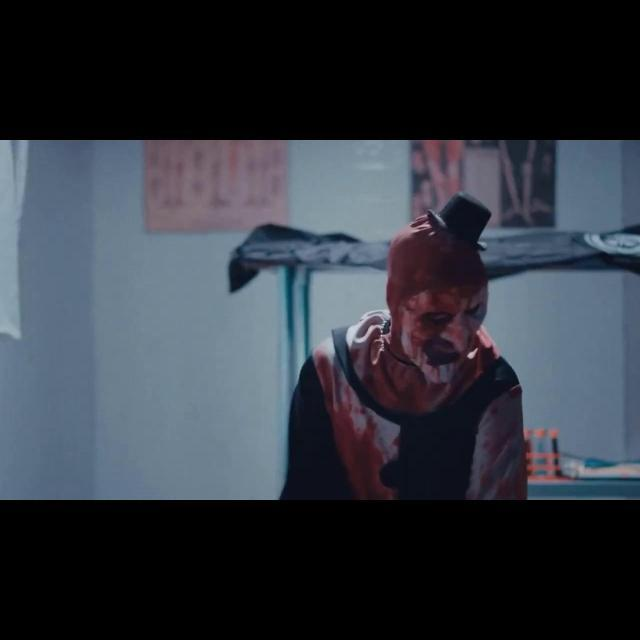blood: (346, 215, 500, 416), (314, 340, 400, 499), (467, 385, 528, 499)
